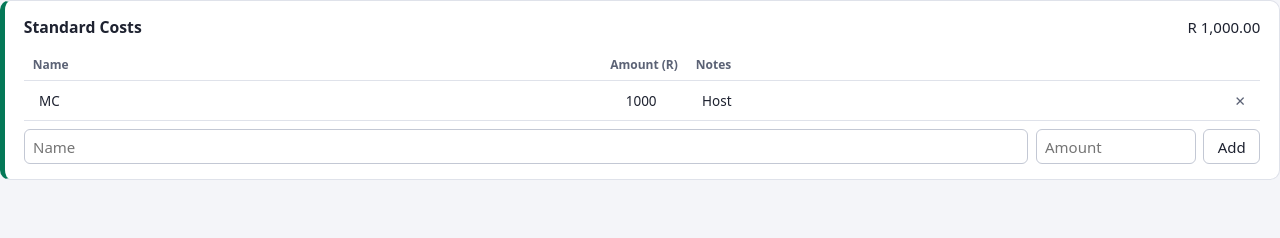
Test: adding a line › adds a line, empties the form and keeps the new line in the list
This screenshot has width=1280, height=238.
Type "Photographer" into the field named "New Standard Costs name" at (526,147), box [24, 129, 1028, 164]
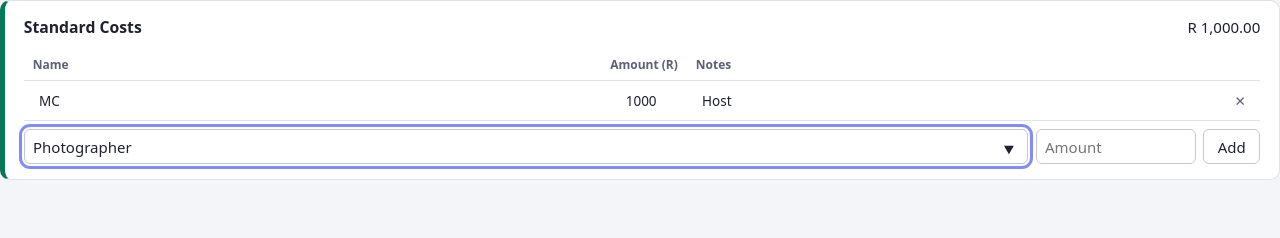
Type "750" into the number field named "New Standard Costs amount" at (1116,147), box [1036, 129, 1196, 164]
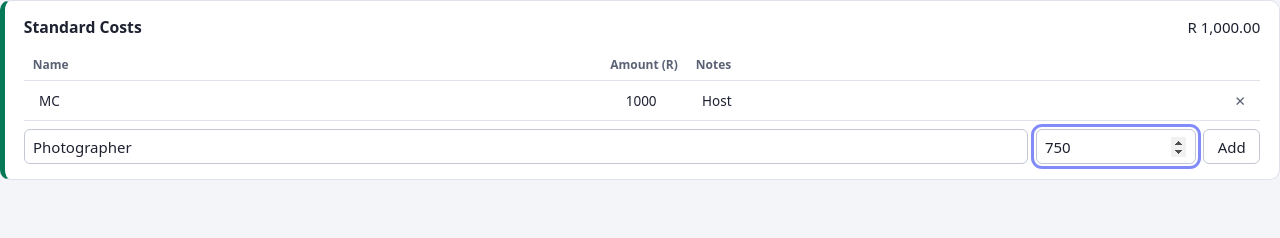
Click the button "Add" at (1232,147), box [1203, 129, 1260, 164]
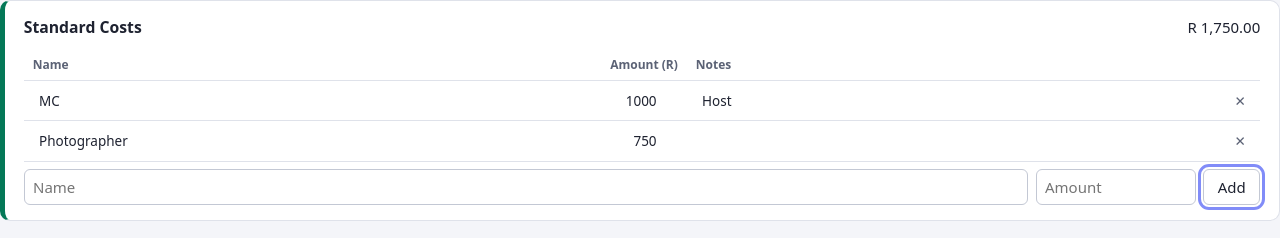
Expected: the number field named "Amount for Photographer" is shown, [563, 125, 681, 157]
Expected: the field named "New Standard Costs name" is empty, [24, 169, 1028, 205]
Expected: the number field named "New Standard Costs amount" is empty, [1036, 169, 1196, 205]
